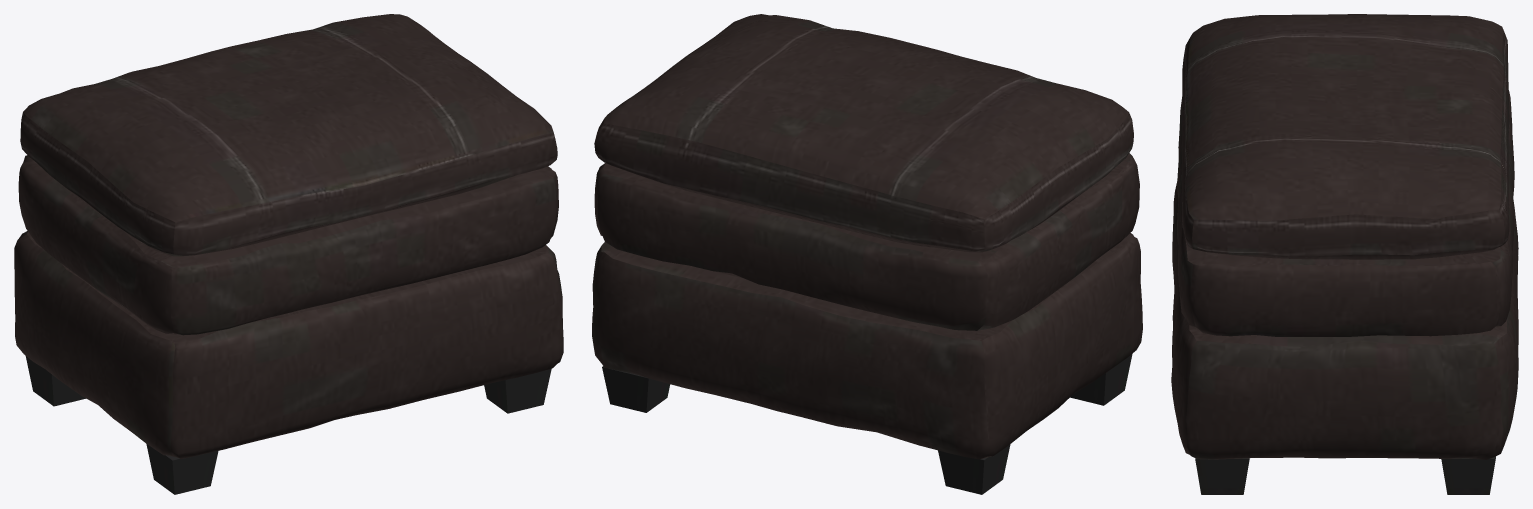
Rendered from pouf.glb.
3 renders of one model, left to right at view 1: azimuth 30°, elevation 25°; view 2: azimuth 150°, elevation 25°; view 3: azimuth 270°, elevation 25°, orthographic.
Parts seen in each view (by area): view 1: Ottoman_01; view 2: Ottoman_01; view 3: Ottoman_01.
Part boxes in pixels (x1=…): Ottoman_01: x1=14, y1=14, x2=563, y2=494; Ottoman_01: x1=592, y1=14, x2=1142, y2=494; Ottoman_01: x1=1171, y1=14, x2=1518, y2=494.
Size of the model in its own units: 0.8846 by 0.6243 by 0.6211.
1 material, 1 textured.
